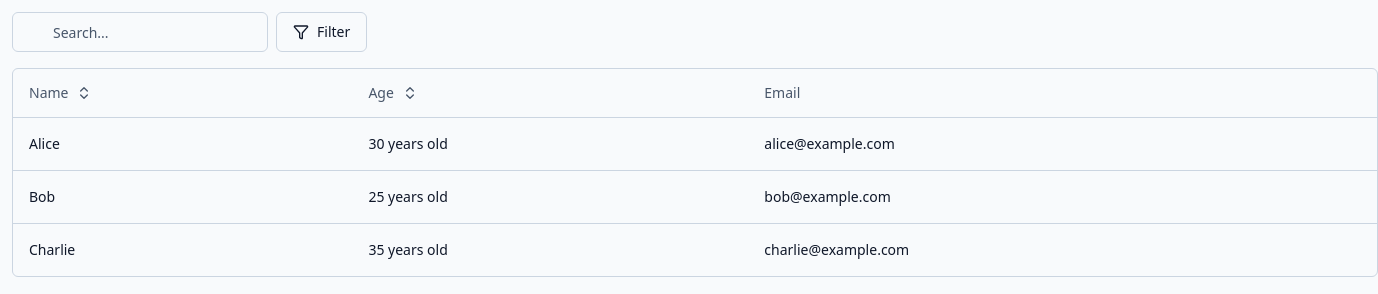
it: Table Components › DataTable › shows filter button for filterable columns
The image size is (1378, 294).
Note: Click to open dropdown
Click the button "Filter" at x=322, y=32, box x1=276 y1=12 x2=367 y2=52
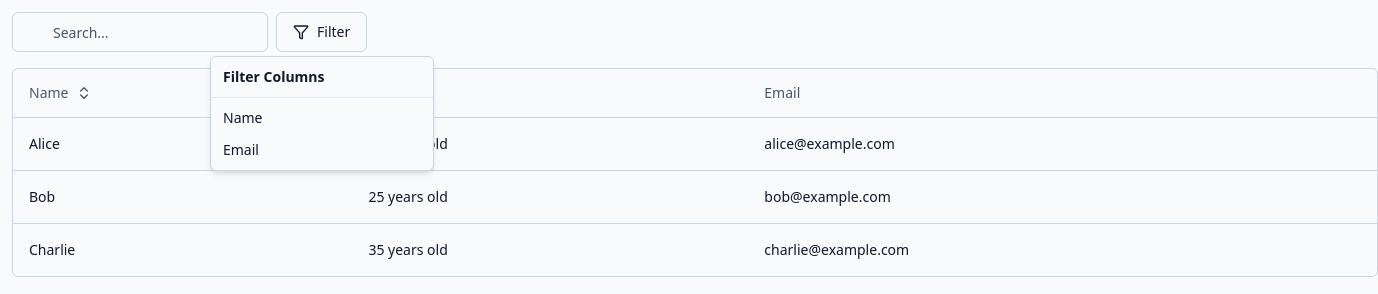
Check: the text "Filter Columns" is shown, box x1=223 y1=67 x2=324 y2=86
